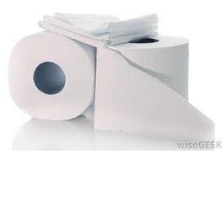tissue: (87, 29, 219, 148), (1, 24, 101, 124), (32, 2, 162, 52)
